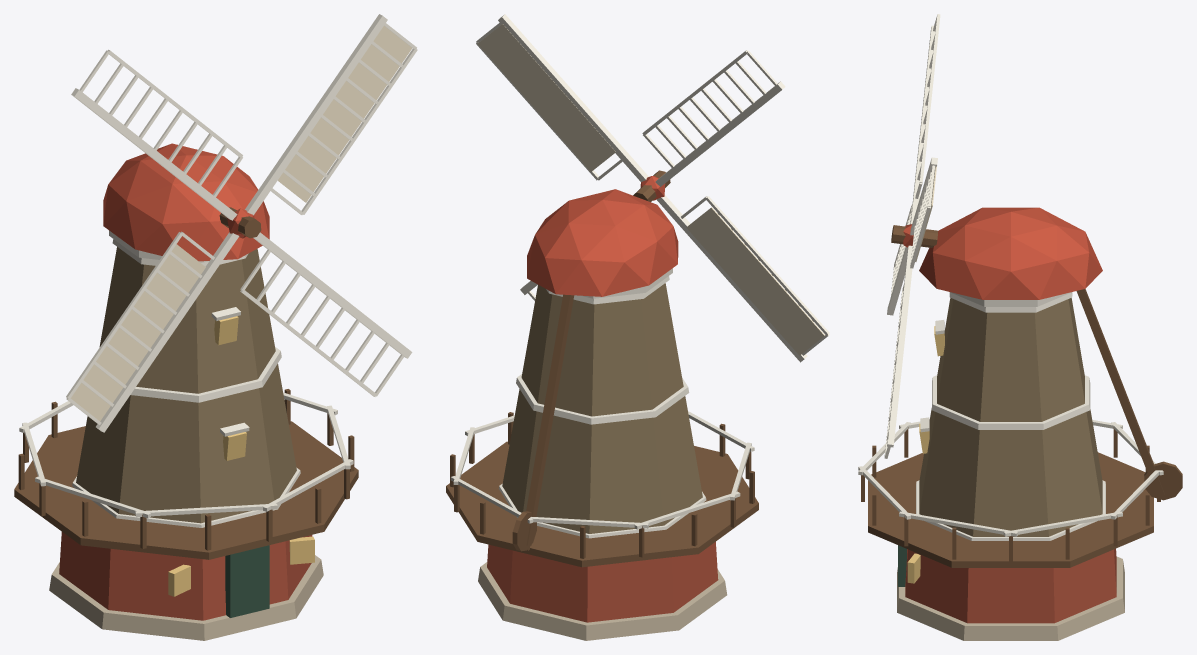
Rendered from windmill.glb.
3 views of the same model, side by side, from view 1: azimuth 30°, elevation 25°; view 2: azimuth 150°, elevation 25°; view 3: azimuth 270°, elevation 25° (orthographic). The views are drawn at different scales.
Visible parts, largest first — view 1: windmill-thatch, sails-trim, windmill-timber, sails-cloth, windmill-cap, windmill-brick, windmill-trim, windmill-stone, windmill-door, windmill-window; view 2: windmill-thatch, windmill-timber, windmill-cap, windmill-brick, sails-cloth, sails-trim, windmill-trim, windmill-stone; view 3: windmill-thatch, windmill-timber, windmill-cap, windmill-brick, windmill-trim, sails-trim, windmill-stone, windmill-window, windshaft-timber.
Boxes of the visible parts, x1,y1,x2,y2 form: windmill-thatch: (76, 247, 296, 523); sails-trim: (66, 14, 417, 432); windmill-timber: (14, 389, 358, 559); sails-cloth: (70, 26, 412, 421); windmill-cap: (103, 143, 269, 261); windmill-brick: (59, 532, 312, 620); windmill-trim: (19, 230, 353, 527); windmill-stone: (49, 555, 323, 640); windmill-door: (225, 545, 269, 617); windmill-window: (168, 316, 314, 596); windmill-thatch: (502, 283, 702, 533); windmill-timber: (446, 294, 758, 567); windmill-cap: (527, 189, 678, 296); windmill-brick: (487, 542, 718, 622); sails-cloth: (478, 24, 825, 355); sails-trim: (476, 14, 829, 362); windmill-trim: (450, 268, 754, 538); windmill-stone: (478, 562, 727, 640); windmill-thatch: (919, 298, 1102, 536); windmill-timber: (861, 289, 1182, 567); windmill-cap: (919, 207, 1102, 299); windmill-brick: (905, 548, 1116, 623); windmill-trim: (858, 292, 1163, 540); sails-trim: (884, 14, 940, 458); windmill-stone: (897, 556, 1124, 640); windmill-window: (907, 326, 944, 583); windshaft-timber: (891, 225, 937, 247).
Bounding box in the file's own units: 8.46 × 12.96 × 7.23.
